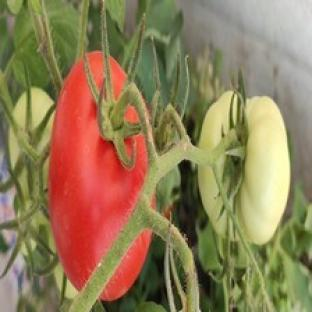Tomato: (49, 60, 147, 289), (234, 98, 289, 243), (30, 87, 54, 130)
